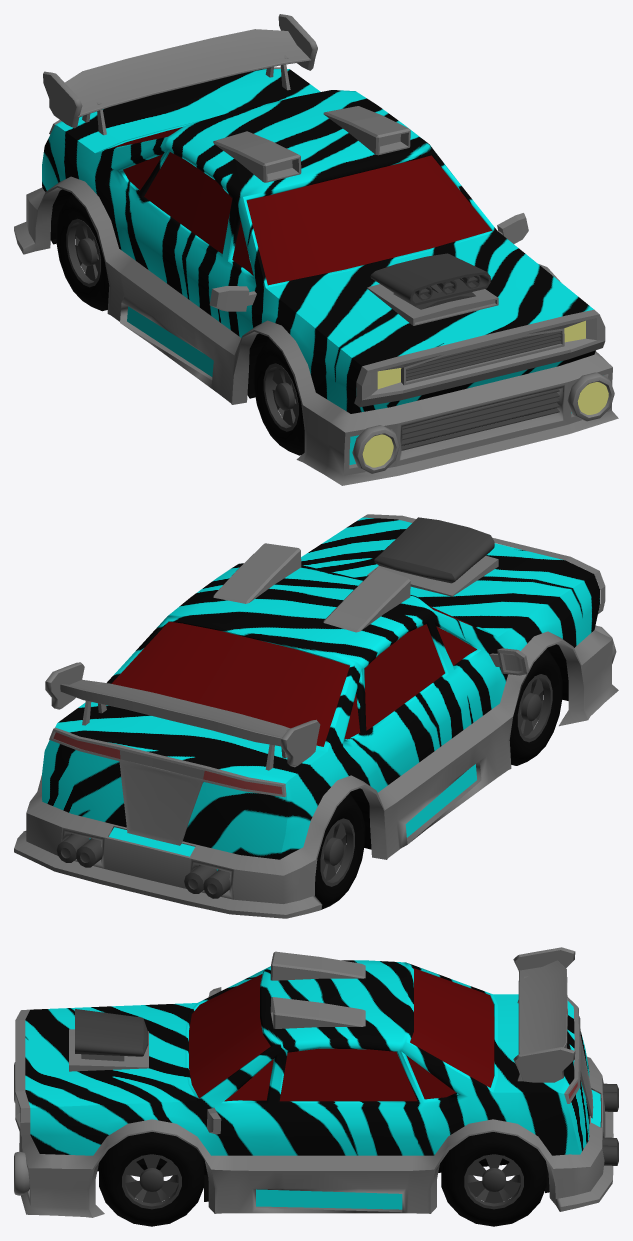
File: Muscle Evolution4 Grey ZebraBlackCyan DarkRed DarkGrey.glb
The picture shows the model from 3 angles, top to bottom: view 1: azimuth 30°, elevation 25°; view 2: azimuth 150°, elevation 25°; view 3: azimuth 270°, elevation 25°; orthographic projection. The views are drawn at different scales.
Visible parts, largest first — view 1: evo4_sillPartR_f1_dupl, evo4_evo4_polySurface1_f1_dupl, evo4_frontGlass_f1_dupl, evo4_Spoiler4_f1_dupl, evo4_frontBlockGrid_f1_dupl, evo4_glasseBigR_f1_dupl, evo4_engine_f1_dupl, evo4_front_down_grid_f1_dupl, evo4_airtrap_r_f1_dupl, evo4_airtrap_l_f1_dupl, evo4_front_up_grid_f1_dupl, evo4_tire_rf_f1_dupl (+11 smaller); view 2: evo4_sillPartR_f1_dupl, evo4_evo4_polySurface1_f1_dupl, evo4_BackGlassGlass_f1_dupl, evo4_Spoiler4_f1_dupl, evo4_blockBackLights_f1_dupl, evo4_engine_f1_dupl, evo4_glasseBigR_f1_dupl, evo4_airtrap_r_f1_dupl, evo4_airtrap_l_f1_dupl, evo4_tire_rf2_f1_dupl, evo4_tire_rf_f1_dupl, evo4_rim_A_rf_f1_dupl (+9 smaller); view 3: evo4_sillPartR_f1_dupl, evo4_evo4_polySurface1_f1_dupl, evo4_BackGlassGlass_f1_dupl, evo4_Spoiler4_f1_dupl, evo4_glasseBigL_f1_dupl, evo4_frontGlass_f1_dupl, evo4_tire_lf_f1_dupl, evo4_tire_lb_f1_dupl, evo4_engine_f1_dupl, evo4_rim_A_lf_f1_dupl, evo4_rim_A_lb_f1_dupl, evo4_airtrap_l_f1_dupl (+9 smaller).
Boxes of the visible parts, bbox=[...] form: evo4_sillPartR_f1_dupl: bbox=[42, 69, 595, 464]; evo4_evo4_polySurface1_f1_dupl: bbox=[14, 176, 618, 485]; evo4_frontGlass_f1_dupl: bbox=[246, 155, 491, 285]; evo4_Spoiler4_f1_dupl: bbox=[43, 14, 317, 135]; evo4_frontBlockGrid_f1_dupl: bbox=[354, 309, 605, 407]; evo4_glasseBigR_f1_dupl: bbox=[144, 152, 232, 253]; evo4_engine_f1_dupl: bbox=[370, 253, 490, 309]; evo4_front_down_grid_f1_dupl: bbox=[401, 389, 559, 450]; evo4_airtrap_r_f1_dupl: bbox=[213, 131, 301, 182]; evo4_airtrap_l_f1_dupl: bbox=[323, 106, 410, 155]; evo4_front_up_grid_f1_dupl: bbox=[406, 331, 561, 381]; evo4_tire_rf_f1_dupl: bbox=[56, 194, 109, 311]; evo4_sillPartR_f1_dupl: bbox=[42, 517, 599, 870]; evo4_evo4_polySurface1_f1_dupl: bbox=[14, 630, 618, 918]; evo4_BackGlassGlass_f1_dupl: bbox=[111, 621, 349, 746]; evo4_Spoiler4_f1_dupl: bbox=[45, 662, 320, 770]; evo4_blockBackLights_f1_dupl: bbox=[49, 727, 286, 845]; evo4_engine_f1_dupl: bbox=[374, 517, 494, 583]; evo4_glasseBigR_f1_dupl: bbox=[364, 624, 444, 730]; evo4_airtrap_r_f1_dupl: bbox=[323, 567, 410, 632]; evo4_airtrap_l_f1_dupl: bbox=[213, 543, 301, 603]; evo4_tire_rf2_f1_dupl: bbox=[509, 648, 562, 765]; evo4_tire_rf_f1_dupl: bbox=[315, 793, 365, 909]; evo4_rim_A_rf_f1_dupl: bbox=[517, 674, 552, 742]; evo4_sillPartR_f1_dupl: bbox=[25, 960, 600, 1209]; evo4_evo4_polySurface1_f1_dupl: bbox=[19, 1056, 613, 1217]; evo4_BackGlassGlass_f1_dupl: bbox=[410, 967, 494, 1087]; evo4_Spoiler4_f1_dupl: bbox=[513, 947, 575, 1082]; evo4_glasseBigL_f1_dupl: bbox=[279, 1048, 417, 1101]; evo4_frontGlass_f1_dupl: bbox=[189, 974, 270, 1098]; evo4_tire_lf_f1_dupl: bbox=[99, 1132, 204, 1226]; evo4_tire_lb_f1_dupl: bbox=[441, 1132, 546, 1226]; evo4_engine_f1_dupl: bbox=[75, 1009, 148, 1061]; evo4_rim_A_lf_f1_dupl: bbox=[122, 1154, 181, 1209]; evo4_rim_A_lb_f1_dupl: bbox=[464, 1154, 523, 1209]; evo4_airtrap_l_f1_dupl: bbox=[270, 997, 365, 1028].
Bounding box in the file's own units: 177 × 120 × 337.
Materials: 8 (1 with a texture image).
